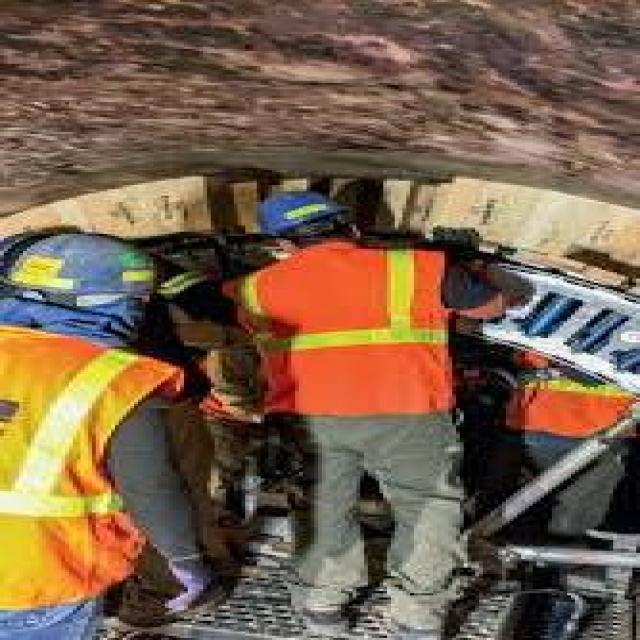Reflective-Jacket: (0, 319, 211, 619), (222, 240, 479, 434), (0, 223, 188, 323)
Safety-Helmet: (234, 185, 372, 245)
